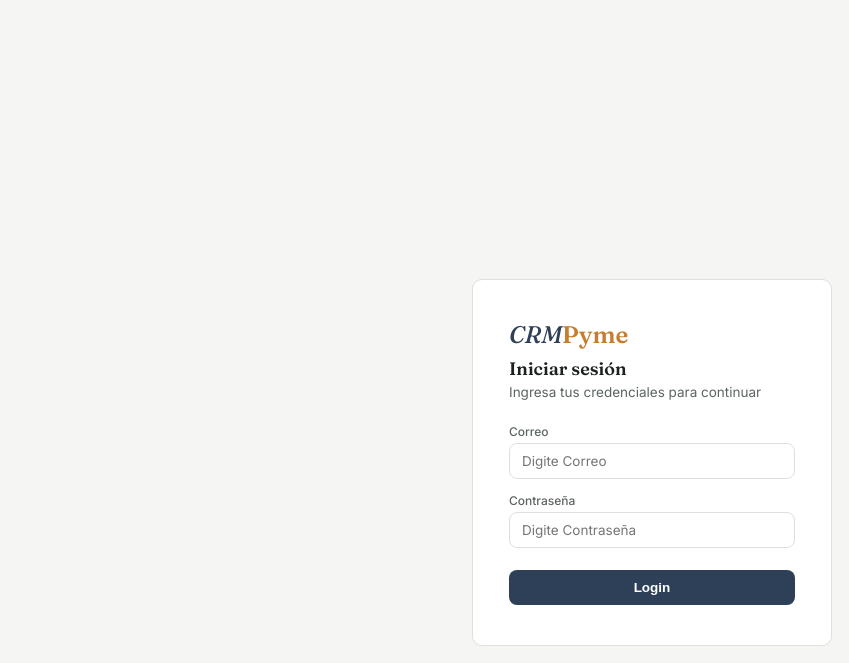
Test: LoginPage — login exitoso › CP-04: rol administrador redirige a "Dashboard Admin"
Type "test@crm.local" into the field labelled "Correo" at (652, 460), box [509,442,795,478]
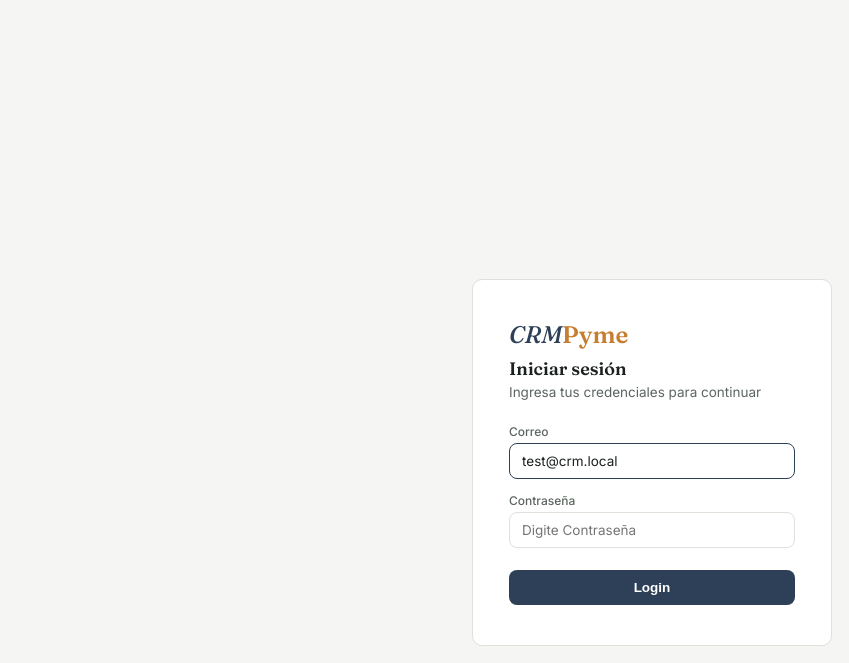
Type "Clave123*" into the password field labelled "Contraseña" at (652, 530), box [509,512,795,548]
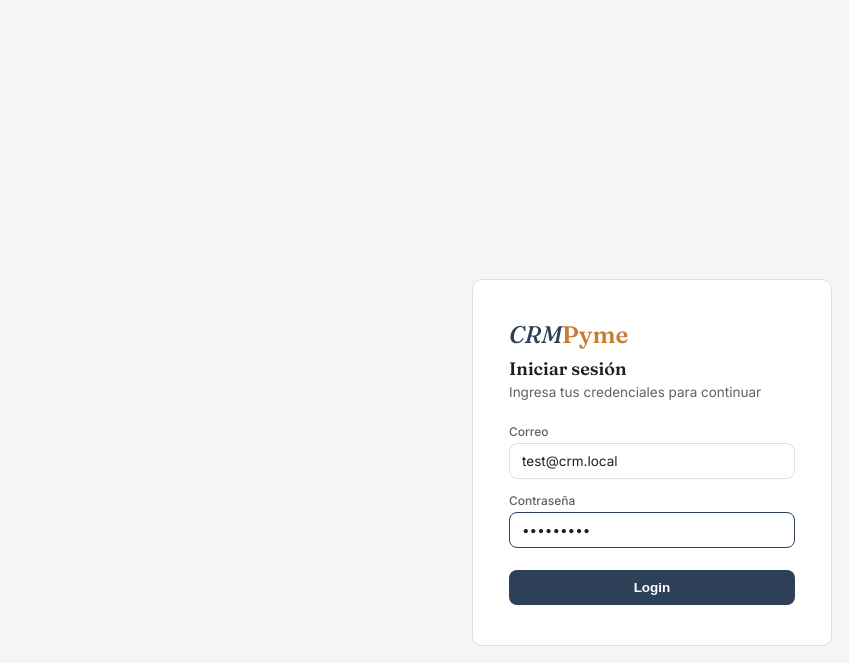
Click the button "Login" at (652, 587), box [509,570,795,604]
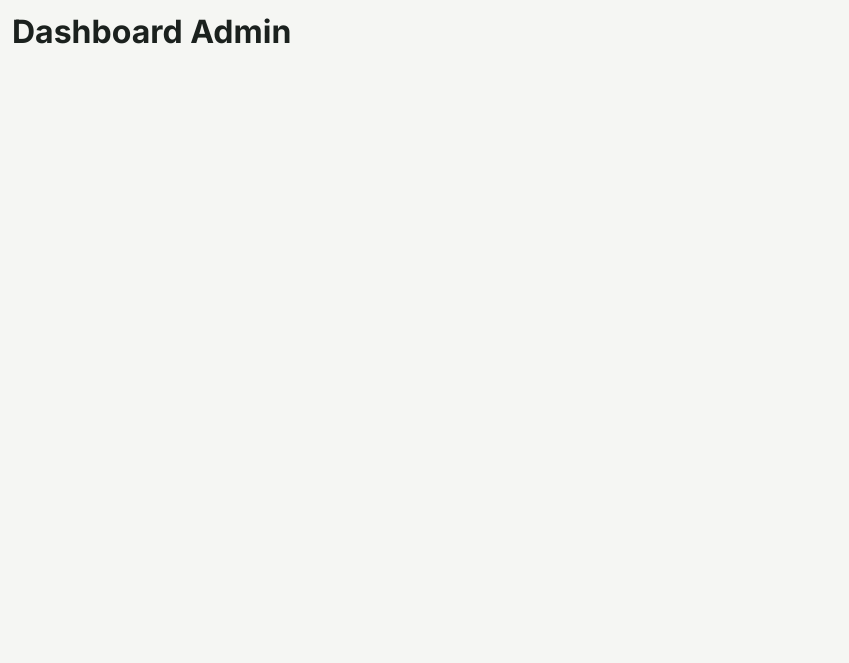
expect the heading "Dashboard Admin" is shown: met, box [12,12,291,51]
